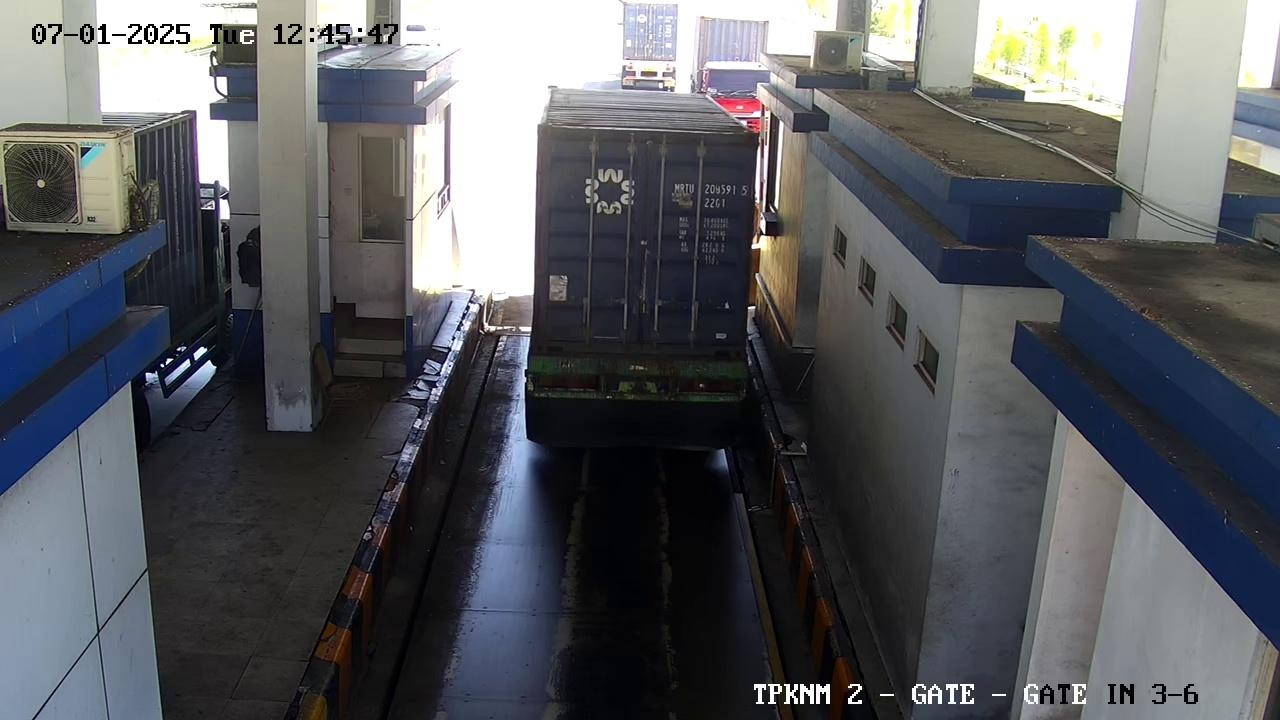Container_ID: (663, 175, 758, 200)
